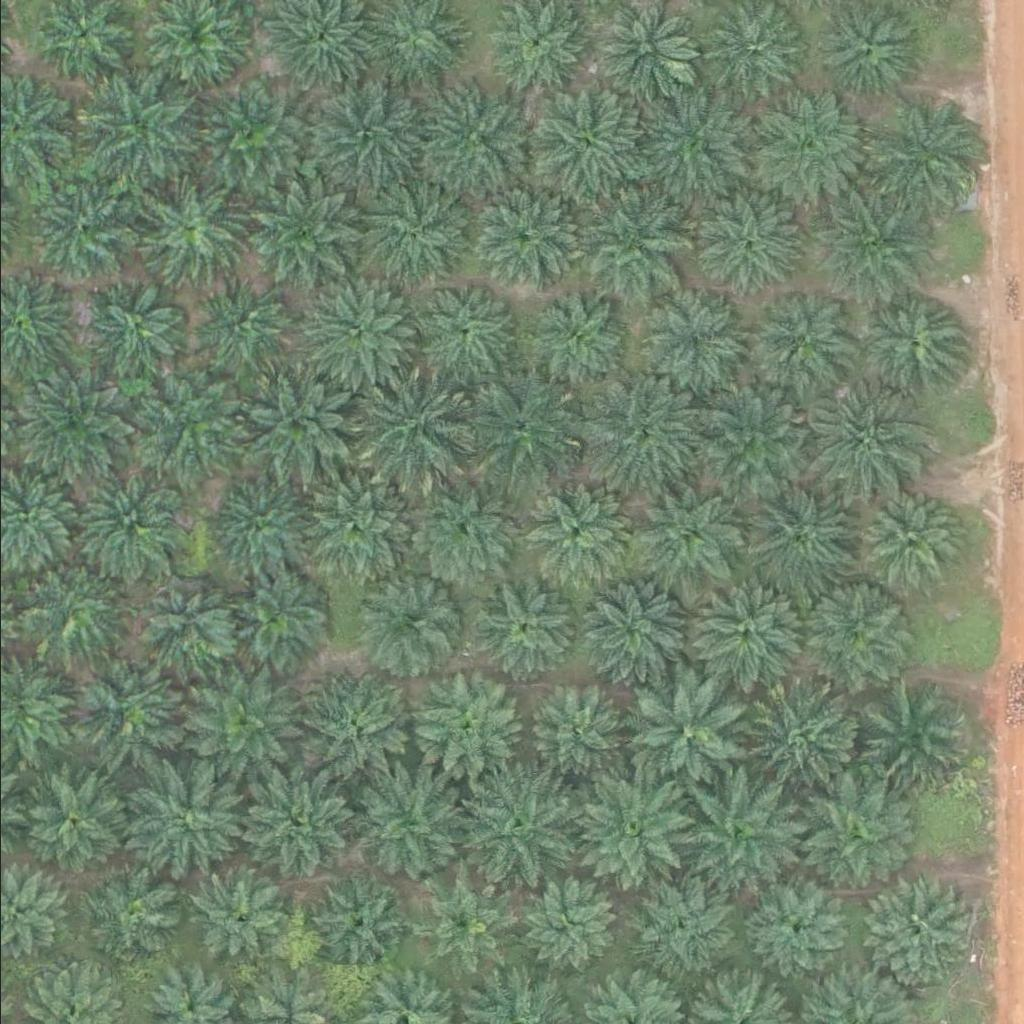Kelapa_Sawit: (576, 778, 690, 891), (632, 675, 746, 788), (627, 483, 741, 596), (234, 370, 348, 483), (73, 264, 187, 377), (466, 176, 580, 289), (133, 170, 247, 283), (855, 875, 968, 988), (794, 773, 907, 886), (118, 758, 231, 871), (186, 665, 299, 778), (302, 672, 415, 785), (413, 664, 526, 777), (798, 576, 911, 689), (694, 577, 807, 690), (462, 570, 575, 683), (354, 565, 467, 678), (220, 562, 333, 675), (296, 463, 409, 576), (739, 474, 852, 587), (693, 388, 806, 501), (589, 368, 702, 481), (746, 286, 859, 399), (810, 179, 923, 292), (689, 180, 802, 293), (349, 173, 462, 286), (861, 93, 974, 206), (744, 86, 857, 199), (529, 90, 642, 203), (427, 83, 540, 196), (13, 763, 126, 876), (13, 554, 126, 667), (347, 773, 461, 885), (519, 481, 633, 593), (855, 284, 969, 396), (241, 176, 355, 288), (317, 81, 431, 193), (627, 866, 740, 978), (679, 776, 792, 888), (459, 772, 572, 884), (242, 769, 355, 881), (61, 655, 174, 767), (858, 685, 971, 797), (747, 678, 860, 790), (569, 571, 682, 683), (76, 475, 189, 587), (408, 474, 521, 586), (805, 382, 918, 494), (465, 375, 578, 487), (352, 376, 465, 488), (125, 368, 238, 480), (299, 277, 412, 389), (577, 195, 690, 307), (633, 88, 746, 200), (74, 70, 187, 182), (15, 369, 128, 481), (15, 173, 128, 285), (313, 877, 414, 977), (521, 871, 622, 971), (753, 876, 854, 976), (135, 578, 236, 678), (199, 477, 300, 577), (857, 484, 958, 584), (186, 279, 287, 379), (419, 279, 520, 379), (635, 292, 736, 392), (821, 2, 922, 102), (692, 1, 793, 101), (190, 870, 290, 970), (415, 876, 515, 976), (526, 680, 626, 780), (521, 286, 621, 386), (204, 80, 304, 180), (88, 868, 176, 956)
